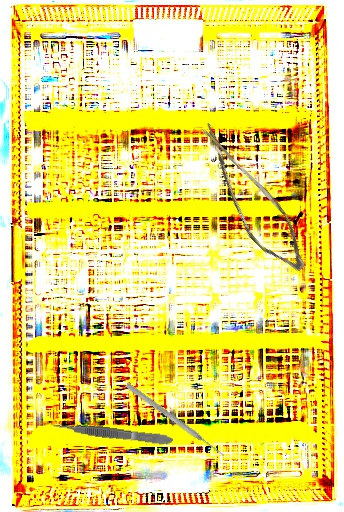Micro Scissor: (171, 122, 328, 279)
Pusher: (124, 381, 226, 459)
Tissue Forceps: (52, 418, 174, 448)
